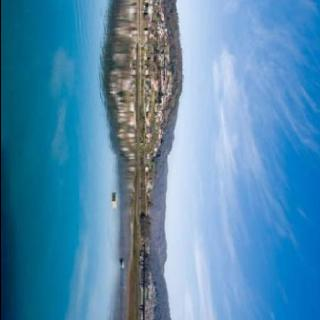Cirrostratus: (179, 0, 320, 320)
